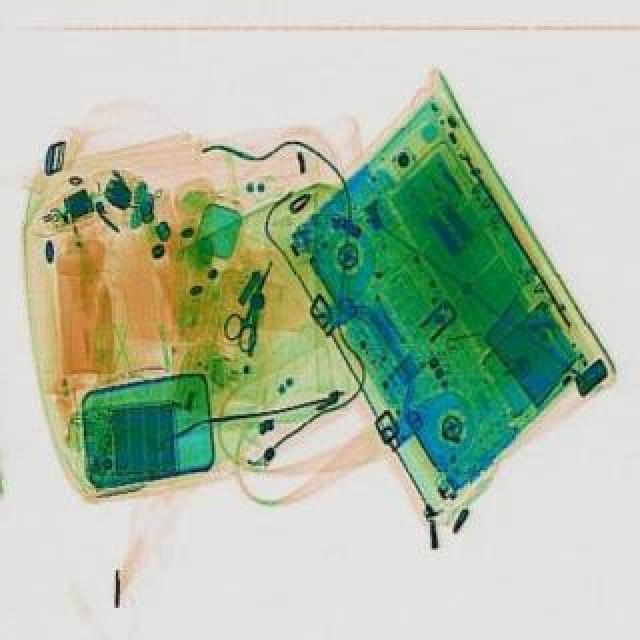pliers: (212, 252, 290, 354)
